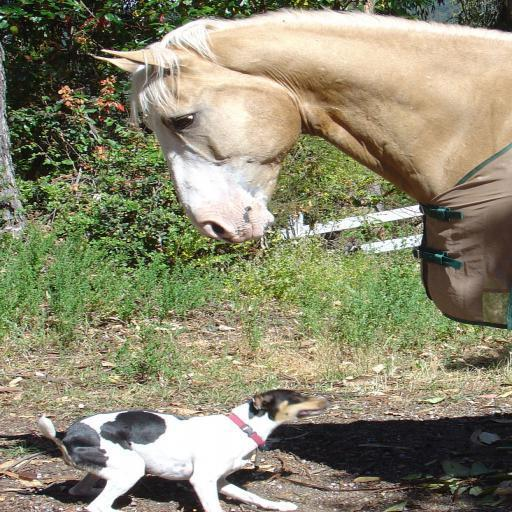horse: (90, 3, 512, 330)
